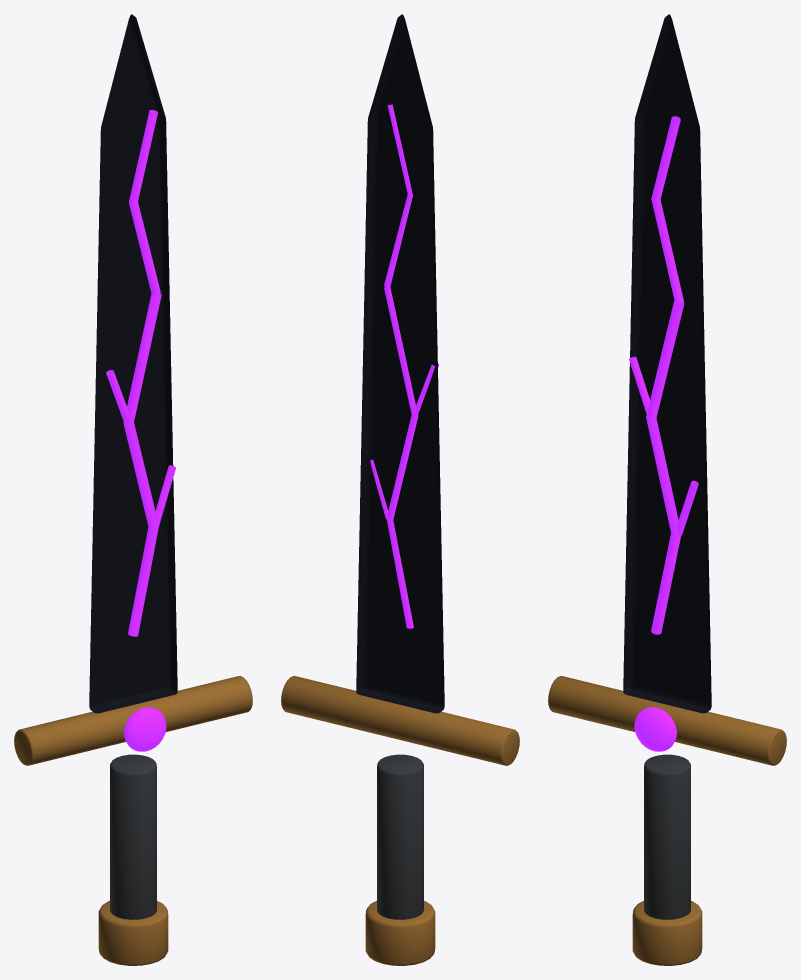
The model's file is Nightforge-Sword-v002.glb.
3 views of the same model, side by side, from view 1: azimuth 30°, elevation 25°; view 2: azimuth 150°, elevation 25°; view 3: azimuth 330°, elevation 25° (orthographic).
Visible parts, largest first — view 1: Nightforge_Blade, Nightforge_Guard, Nightforge_Grip, Nightforge_Fracture_A, Nightforge_Pommel, Nightforge_Fracture_D, Nightforge_GuardGem; view 2: Nightforge_Blade, Nightforge_Guard, Nightforge_Grip, Nightforge_Pommel, Nightforge_Fracture_A, Nightforge_Fracture_D; view 3: Nightforge_Blade, Nightforge_Guard, Nightforge_Grip, Nightforge_Fracture_A, Nightforge_Pommel, Nightforge_Fracture_D, Nightforge_GuardGem.
Boxes of the visible parts, box(x1,y1,x2,y2) form: Nightforge_Blade: box(89, 14, 177, 713); Nightforge_Guard: box(14, 676, 252, 765); Nightforge_Grip: box(110, 754, 156, 919); Nightforge_Fracture_A: box(123, 293, 161, 636); Nightforge_Pommel: box(98, 901, 168, 965); Nightforge_Fracture_D: box(129, 110, 160, 295); Nightforge_GuardGem: box(124, 707, 166, 751); Nightforge_Blade: box(356, 14, 444, 713); Nightforge_Guard: box(281, 676, 519, 765); Nightforge_Grip: box(377, 754, 423, 919); Nightforge_Pommel: box(365, 901, 435, 965); Nightforge_Fracture_A: box(384, 287, 418, 628); Nightforge_Fracture_D: box(384, 104, 412, 287); Nightforge_Blade: box(623, 14, 711, 713); Nightforge_Guard: box(548, 676, 786, 765); Nightforge_Grip: box(644, 754, 690, 919); Nightforge_Fracture_A: box(646, 300, 684, 634); Nightforge_Pommel: box(632, 901, 702, 965); Nightforge_Fracture_D: box(651, 116, 683, 303); Nightforge_GuardGem: box(634, 707, 676, 751).
Size of the model in its own units: 0.38 by 1.54 by 0.105.
